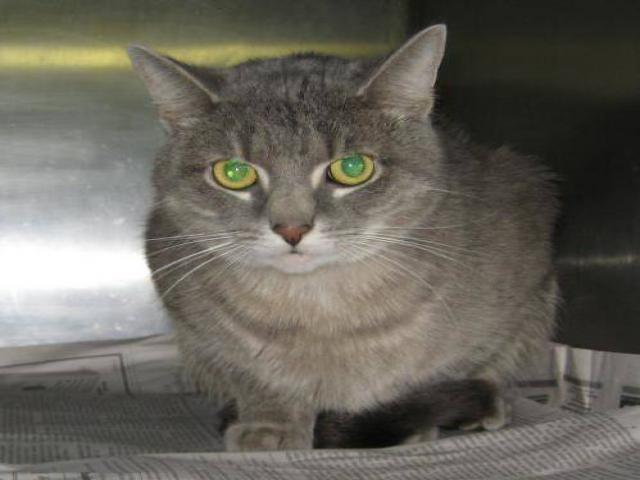cat: (133, 20, 568, 455)
